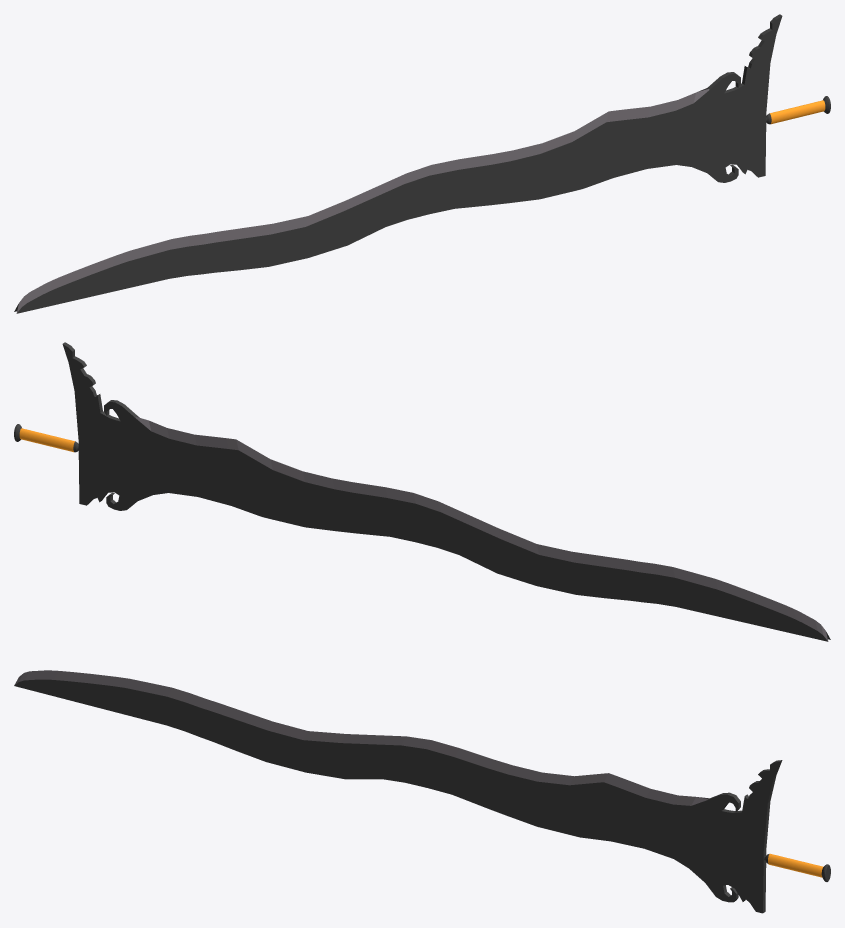
The model's file is Swordv1.fbx.
3 views of the same model, one above another, from view 1: azimuth 30°, elevation 25°; view 2: azimuth 150°, elevation 25°; view 3: azimuth 330°, elevation 25° (orthographic).
Visible parts, largest first — view 1: Cube; view 2: Cube; view 3: Cube.
Boxes of the visible parts, box(x1,y1,x2,y2) form: Cube: box(14, 14, 830, 313); Cube: box(14, 342, 830, 641); Cube: box(14, 670, 830, 913).
Bounding box in the file's own units: 727 × 133 × 9.08.
